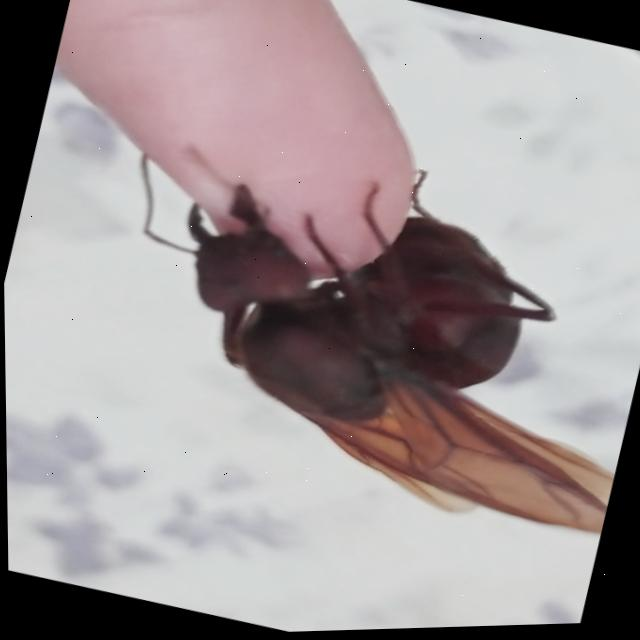Alive-Female-Alate: (70, 98, 640, 564)
